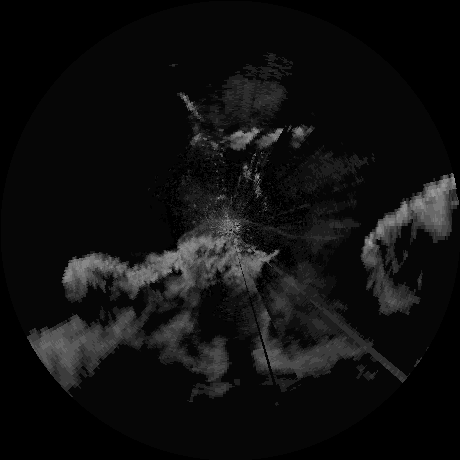frontgust: (234, 221, 301, 241)
